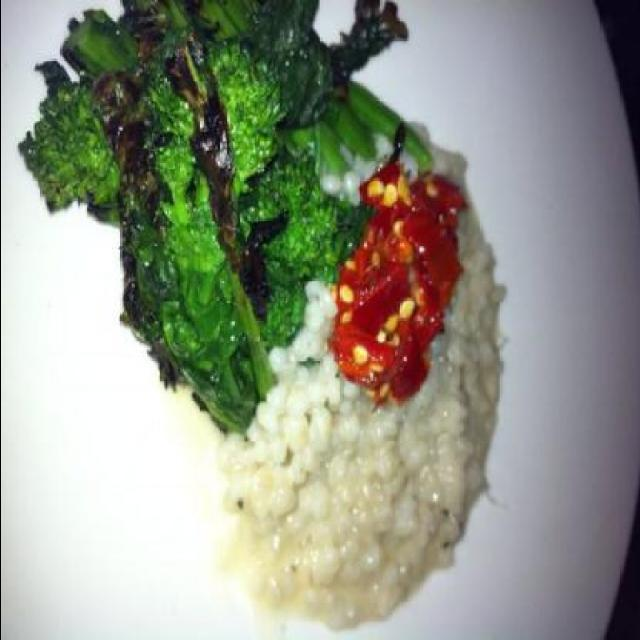Risotto: (257, 84, 515, 638)
